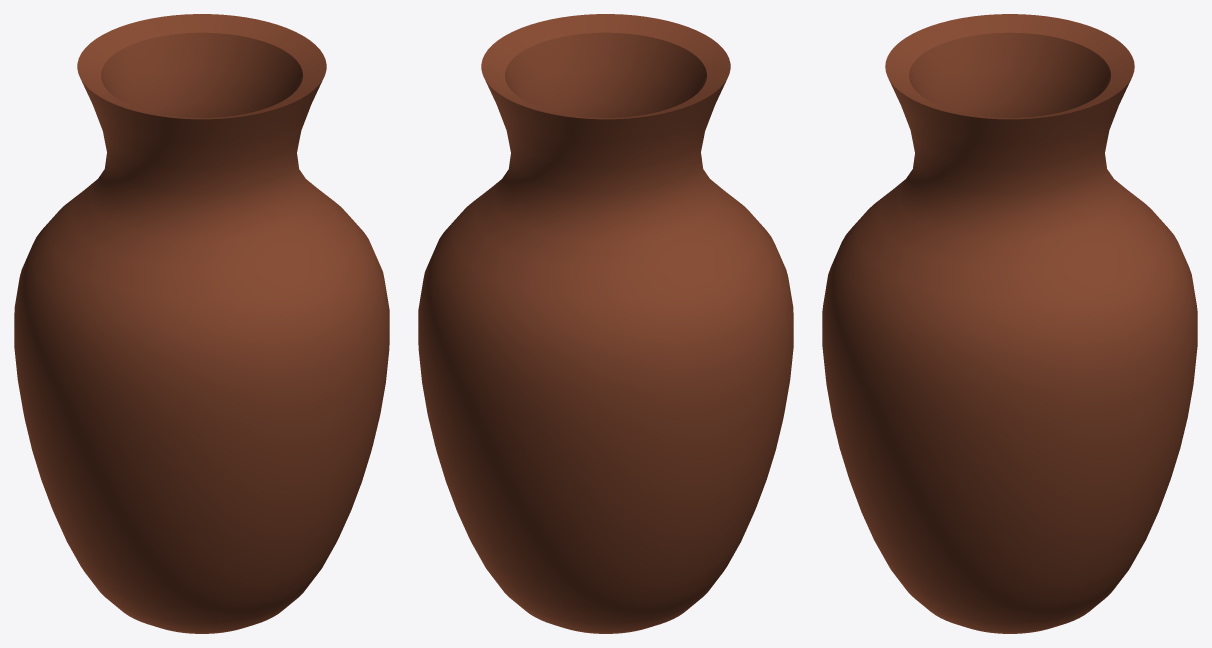
File: Wazon.fbx
The picture shows the model from 3 angles, left to right: view 1: azimuth 30°, elevation 25°; view 2: azimuth 150°, elevation 25°; view 3: azimuth 270°, elevation 25°; orthographic projection.
Visible parts, largest first — view 1: Plane; view 2: Plane; view 3: Plane.
Boxes of the visible parts, left/top/right/bottom form: Plane: left=14, top=14, right=389, bottom=633; Plane: left=418, top=14, right=793, bottom=633; Plane: left=822, top=14, right=1197, bottom=633.
Size of the model in its own units: 187 by 300 by 187.
